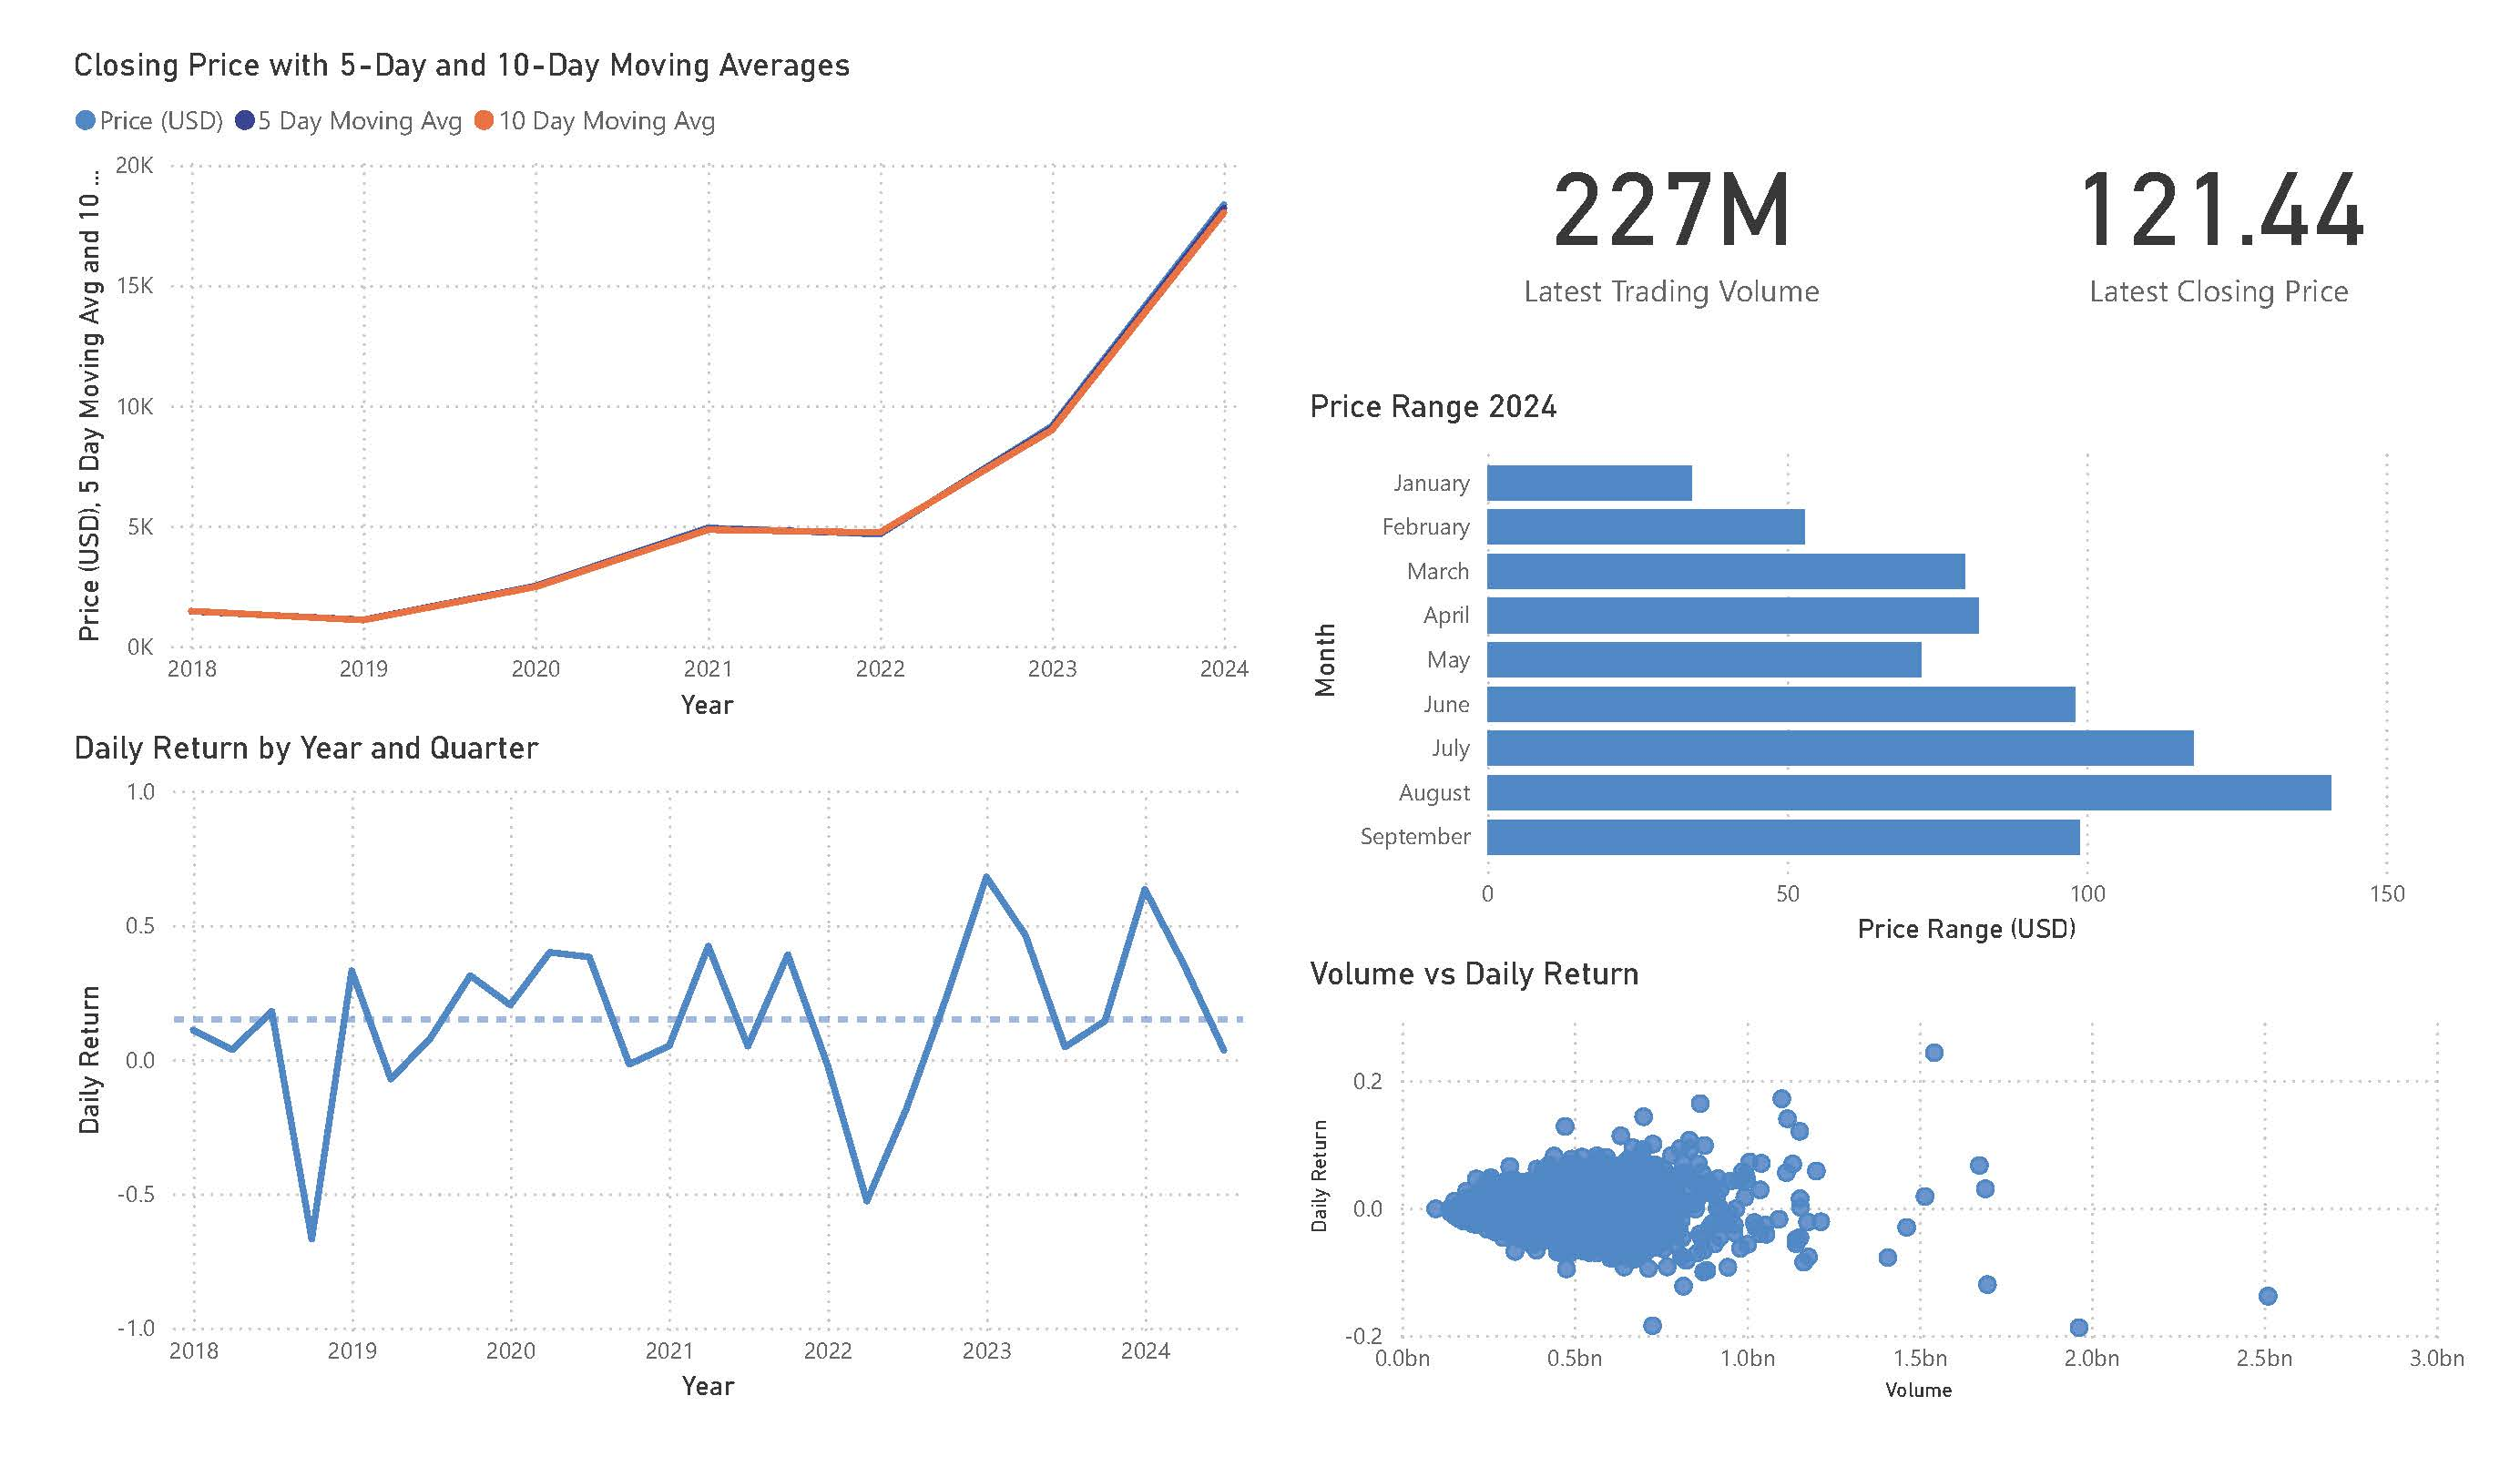

The dashboard page shown, as its layout file describes it:
{"tool":"powerbi","page":{"name":"Page 1","canvas":[1280,720],"ordinal":0},"visuals":[{"type":"lineChart","title":"Closing Price with 5-Day and 10-Day Moving Averages","fields":{"Category":["nvidia_features.date.Variation.Date Hierarchy.Year","nvidia_features.date.Variation.Date Hierarchy.Quarter","nvidia_features.date.Variation.Date Hierarchy.Month","nvidia_features.date.Variation.Date Hierarchy.Day"],"Y":["Sum(nvidia_features.close)","Sum(nvidia_features.ma_5)","Sum(nvidia_features.ma_10)"]},"box":[9.6,0,629.8,359.5],"z":0},{"type":"lineChart","fields":{"Category":["nvidia_features.date.Variation.Date Hierarchy.Year","nvidia_features.date.Variation.Date Hierarchy.Quarter","nvidia_features.date.Variation.Date Hierarchy.Month","nvidia_features.date.Variation.Date Hierarchy.Day"],"Y":["Sum(nvidia_features.daily_return)"]},"box":[9.6,359.5,629.8,360.9],"z":1},{"type":"barChart","title":"Price Range 2024","fields":{"Category":["nvidia_features.date.Variation.Date Hierarchy.Year","nvidia_features.date.Variation.Date Hierarchy.Quarter","nvidia_features.date.Variation.Date Hierarchy.Month","nvidia_features.date.Variation.Date Hierarchy.Day"],"Y":["Sum(nvidia_features.price_range)"]},"box":[661.4,179.8,618.9,299.1],"z":2},{"type":"scatterChart","title":"Volume vs Daily Return","fields":{"X":["nvidia_features.volume"],"Y":["nvidia_features.daily_return"]},"box":[661.4,478.9,618.9,241.5],"z":3},{"type":"card","fields":{"Values":["Sum(nvidia_features.close)"]},"box":[1011.3,0,269,179.8],"z":4},{"type":"card","title":"Latest Trading Volume","fields":{"Values":["Sum(nvidia_features.volume)"]},"box":[702.6,0,308.7,179.8],"z":5}]}

Visuals, with their boxes in screenshot pixels (x1, y1, x2, y2):
"Closing Price with 5-Day and 10-Day Moving Averages" lineChart: detection(64, 46, 1259, 728)
lineChart - nvidia_features.date.Variation.Date Hierarchy.Year x nvidia_features.date.Variation.Date Hierarchy.Quarter: detection(64, 728, 1259, 1411)
"Price Range 2024" barChart: detection(1301, 387, 2474, 954)
"Volume vs Daily Return" scatterChart: detection(1301, 954, 2474, 1411)
card - Sum(nvidia_features.close): detection(1964, 46, 2474, 387)
"Latest Trading Volume" card: detection(1379, 46, 1964, 387)
